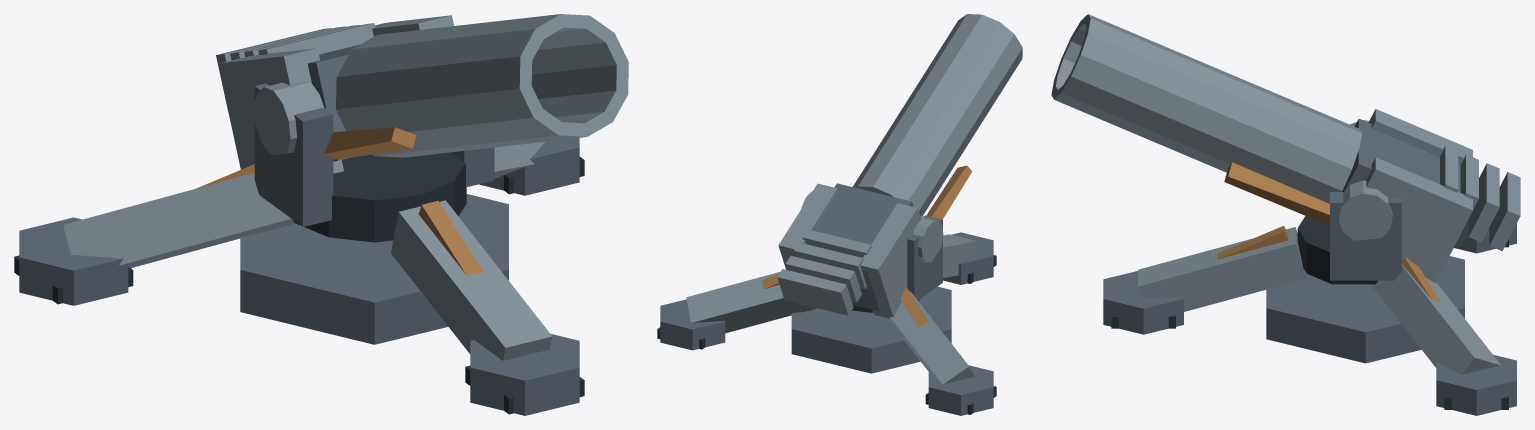
Rendered from howitzer_t3_d0.meshopt.glb.
The picture shows the model from 3 angles, left to right: view 1: azimuth 30°, elevation 25°; view 2: azimuth 150°, elevation 25°; view 3: azimuth 270°, elevation 25°; orthographic projection. The views are drawn at different scales.
Visible parts, largest first — view 1: ROOT_ARMOR_GEOMETRY; view 2: ROOT_ARMOR_GEOMETRY; view 3: ROOT_ARMOR_GEOMETRY.
Boxes of the visible parts, x1,y1,x2,y2 form: ROOT_ARMOR_GEOMETRY: [14, 14, 628, 415]; ROOT_ARMOR_GEOMETRY: [657, 14, 1022, 415]; ROOT_ARMOR_GEOMETRY: [1051, 14, 1520, 415].
Size of the model in its own units: 3.33 by 2.32 by 3.28.
